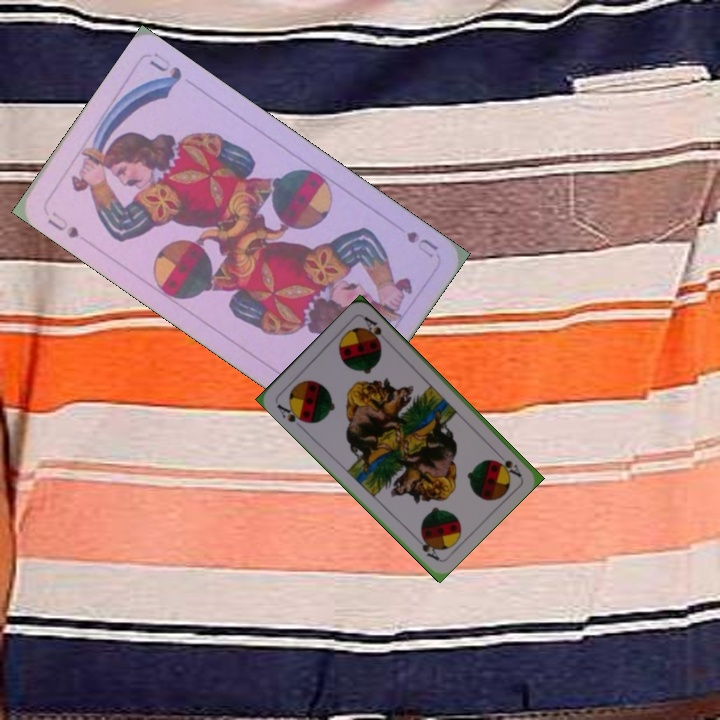SA: (491, 447, 524, 479), (273, 400, 310, 426)
SU: (402, 227, 441, 261), (43, 208, 82, 241)
